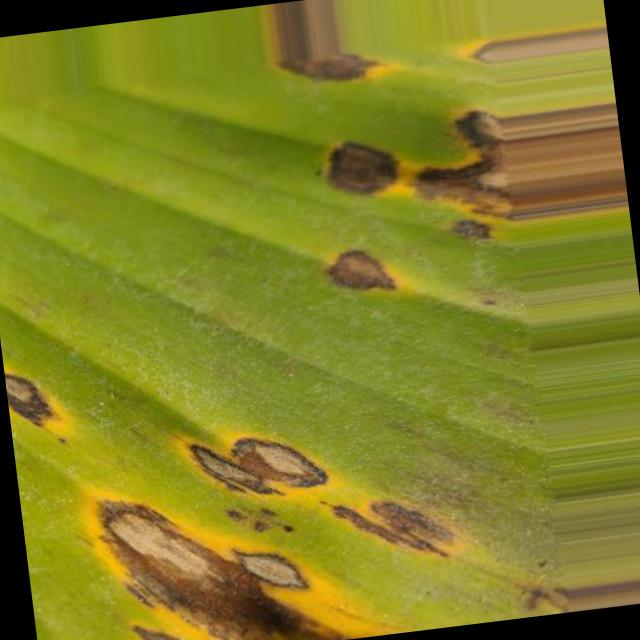Banana_Yellow_Sigatoka: (4, 316, 422, 640), (262, 0, 633, 290)
